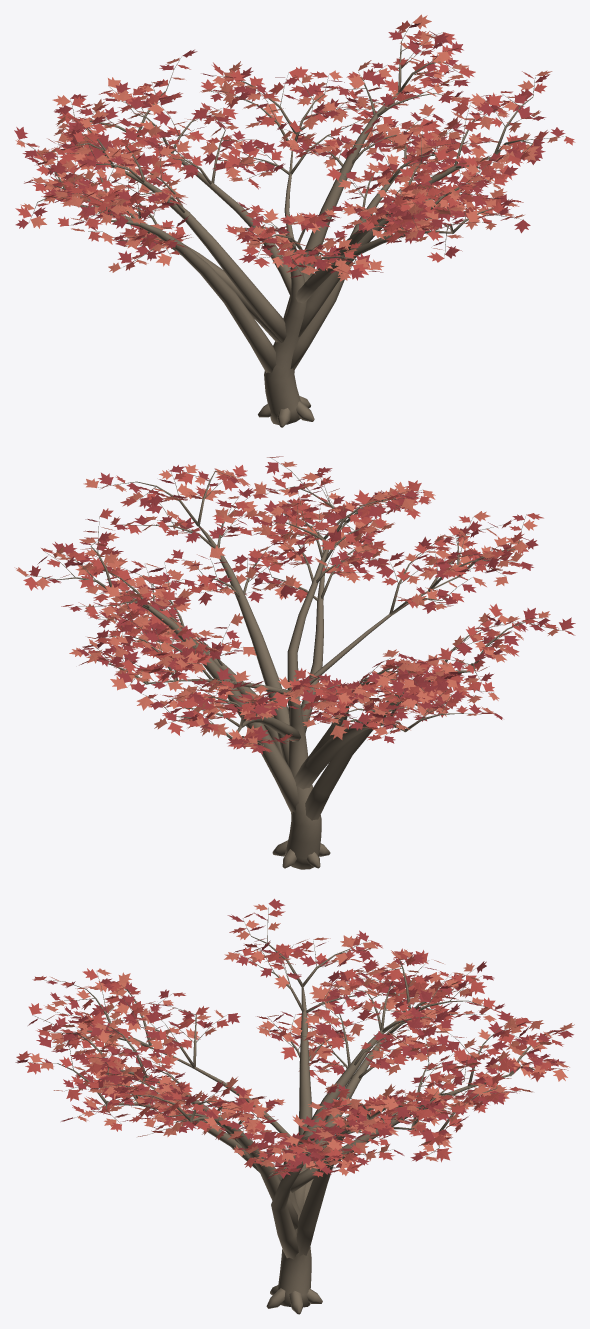
Rendered from innerscene-japanese-maple.glb.
The picture shows the model from 3 angles, top to bottom: view 1: azimuth 30°, elevation 25°; view 2: azimuth 150°, elevation 25°; view 3: azimuth 270°, elevation 25°; orthographic projection.
Visible parts, largest first — view 1: japanese_maple connected crown 3, japanese_maple connected crown 2, japanese_maple connected crown 1, japanese_maple attached fine twigs, japanese_maple irregular trunk, japanese_maple spreading bough 5, japanese_maple spreading bough 2, japanese_maple spreading bough 9, japanese_maple spreading bough 1, japanese_maple spreading bough 6, japanese_maple spreading bough 7, japanese_maple spreading bough 11 (+1 smaller); view 2: japanese_maple connected crown 3, japanese_maple connected crown 1, japanese_maple connected crown 2, japanese_maple attached fine twigs, japanese_maple irregular trunk, japanese_maple spreading bough 9, japanese_maple spreading bough 6, japanese_maple spreading bough 5, japanese_maple spreading bough 10, japanese_maple spreading bough 3, japanese_maple spreading bough 11, japanese_maple spreading bough 8 (+1 smaller); view 3: japanese_maple connected crown 2, japanese_maple connected crown 3, japanese_maple connected crown 1, japanese_maple attached fine twigs, japanese_maple irregular trunk, japanese_maple spreading bough 9, japanese_maple spreading bough 1, japanese_maple spreading bough 5, japanese_maple spreading bough 2, japanese_maple spreading bough 6, japanese_maple spreading bough 10, japanese_maple spreading bough 7.
Boxes of the visible parts, left/top/right/bottom form: japanese_maple connected crown 3: left=15, top=14, right=560, bottom=281; japanese_maple connected crown 2: left=15, top=20, right=575, bottom=275; japanese_maple connected crown 1: left=14, top=23, right=565, bottom=280; japanese_maple attached fine twigs: left=20, top=22, right=566, bottom=275; japanese_maple irregular trunk: left=264, top=251, right=306, bottom=424; japanese_maple spreading bough 5: left=111, top=219, right=276, bottom=372; japanese_maple spreading bough 2: left=114, top=166, right=286, bottom=342; japanese_maple spreading bough 9: left=283, top=92, right=399, bottom=319; japanese_maple spreading bough 1: left=290, top=164, right=404, bottom=370; japanese_maple spreading bough 6: left=298, top=156, right=491, bottom=337; japanese_maple spreading bough 7: left=137, top=136, right=291, bottom=296; japanese_maple spreading bough 11: left=295, top=230, right=450, bottom=303; japanese_maple connected crown 3: left=14, top=461, right=559, bottom=748; japanese_maple connected crown 1: left=28, top=462, right=575, bottom=754; japanese_maple connected crown 2: left=23, top=456, right=575, bottom=752; japanese_maple attached fine twigs: left=25, top=458, right=563, bottom=746; japanese_maple irregular trunk: left=284, top=696, right=321, bottom=869; japanese_maple spreading bough 9: left=119, top=594, right=298, bottom=813; japanese_maple spreading bough 6: left=198, top=525, right=289, bottom=765; japanese_maple spreading bough 5: left=305, top=670, right=469, bottom=820; japanese_maple spreading bough 10: left=294, top=722, right=402, bottom=789; japanese_maple spreading bough 3: left=287, top=522, right=346, bottom=721; japanese_maple spreading bough 11: left=301, top=542, right=325, bottom=733; japanese_maple spreading bough 8: left=309, top=576, right=458, bottom=684; japanese_maple connected crown 2: left=16, top=909, right=568, bottom=1177; japanese_maple connected crown 3: left=29, top=904, right=574, bottom=1175; japanese_maple connected crown 1: left=15, top=898, right=573, bottom=1178; japanese_maple attached fine twigs: left=27, top=908, right=566, bottom=1175; japanese_maple irregular trunk: left=277, top=1145, right=311, bottom=1307; japanese_maple spreading bough 9: left=296, top=1116, right=367, bottom=1256; japanese_maple spreading bough 1: left=271, top=1154, right=308, bottom=1259; japanese_maple spreading bough 5: left=298, top=986, right=312, bottom=1135; japanese_maple spreading bough 2: left=294, top=1021, right=396, bottom=1212; japanese_maple spreading bough 6: left=192, top=1116, right=297, bottom=1229; japanese_maple spreading bough 10: left=303, top=1023, right=398, bottom=1204; japanese_maple spreading bough 7: left=290, top=1074, right=509, bottom=1192.
Size of the model in its own units: 8.06 by 5 by 8.03.
5 materials, 5 textured.
